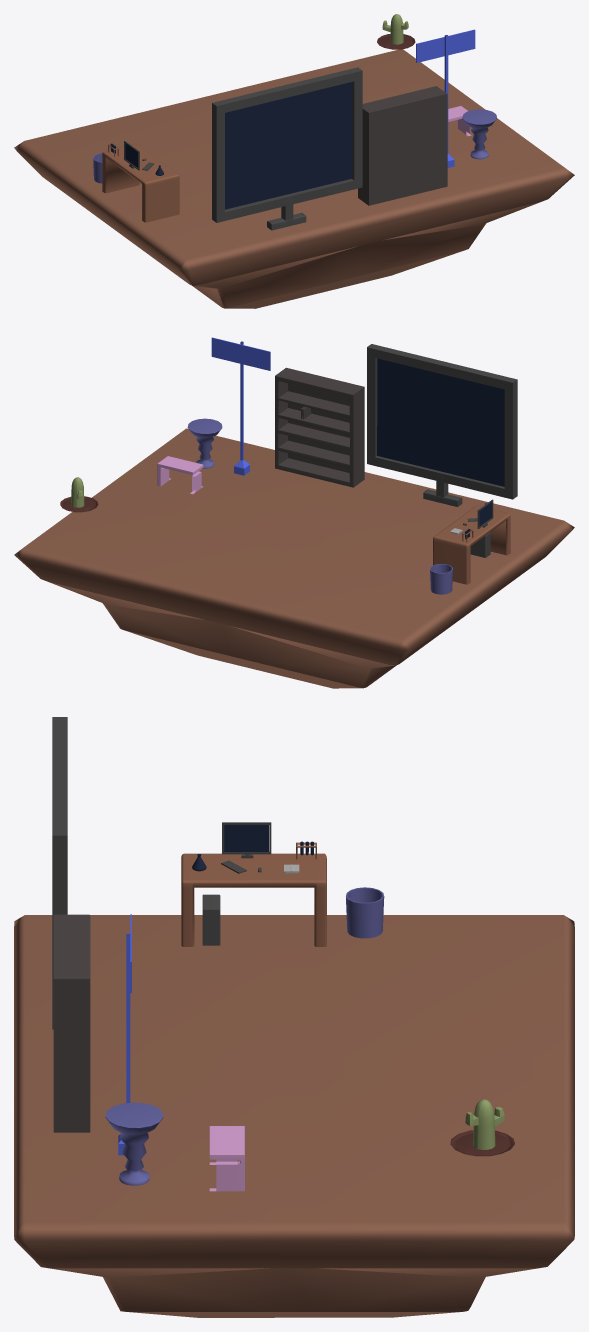
The model's file is MainMenuScene.fbx.
3 renders of one model, top to bottom at view 1: azimuth 30°, elevation 25°; view 2: azimuth 150°, elevation 25°; view 3: azimuth 270°, elevation 25°, orthographic. The views are drawn at different scales.
Visible parts, largest first — view 1: Island, TvScreen, BookShelf, Tv, Table, Cube, Pedestal, Cactus, Kruka; view 2: Island, TvScreen, BookShelf, Tv, Table, Cube, Pedestal, Bench, Bin; view 3: Island, BookShelf, Table, Tv, Pedestal, Bench, Bin, Cactus, CompScreen, Cube, Kruka, Computer.
Boxes of the visible parts, x1,y1,x2,y2 form: Island: (14, 49, 574, 308); TvScreen: (225, 82, 351, 209); BookShelf: (358, 86, 447, 205); Tv: (212, 67, 362, 230); Table: (102, 143, 179, 222); Cube: (416, 29, 475, 167); Pedestal: (462, 109, 496, 159); Cactus: (382, 14, 408, 44); Kruka: (377, 34, 415, 49); Island: (14, 428, 574, 688); TvScreen: (377, 358, 504, 486); BookShelf: (275, 367, 364, 487); Tv: (367, 344, 517, 506); Table: (433, 505, 510, 584); Cube: (211, 337, 270, 475); Pedestal: (187, 418, 222, 468); Bench: (157, 456, 203, 494); Bin: (430, 564, 452, 594); Island: (14, 915, 574, 1317); BookShelf: (53, 914, 90, 1132); Table: (181, 853, 326, 946); Tv: (52, 717, 67, 1029); Pedestal: (105, 1102, 163, 1185); Bench: (209, 1126, 244, 1191); Bin: (346, 887, 384, 938); Cactus: (465, 1099, 504, 1149); CompScreen: (224, 825, 268, 851); Cube: (118, 914, 131, 1155); Kruka: (450, 1130, 514, 1156); Computer: (202, 894, 220, 945).
Bounding box in the file's own units: 26.09 × 17.49 × 19.37.
Materials: 1 (1 with a texture image).
